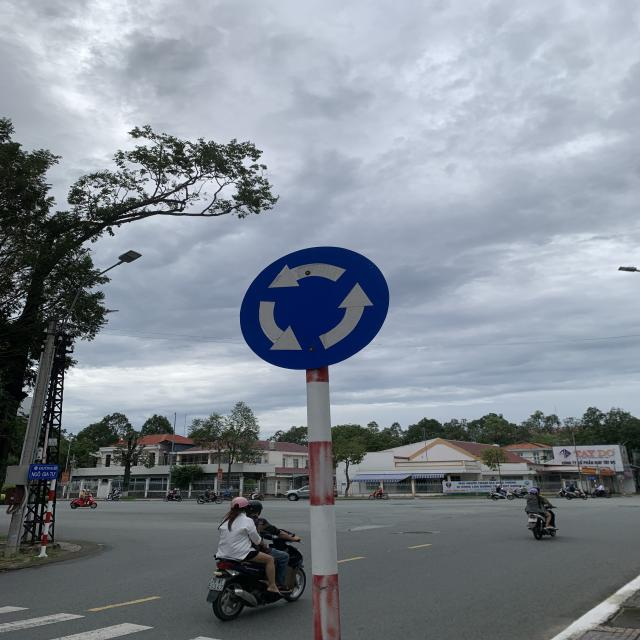Xe_Bus: (239, 245, 390, 372)
